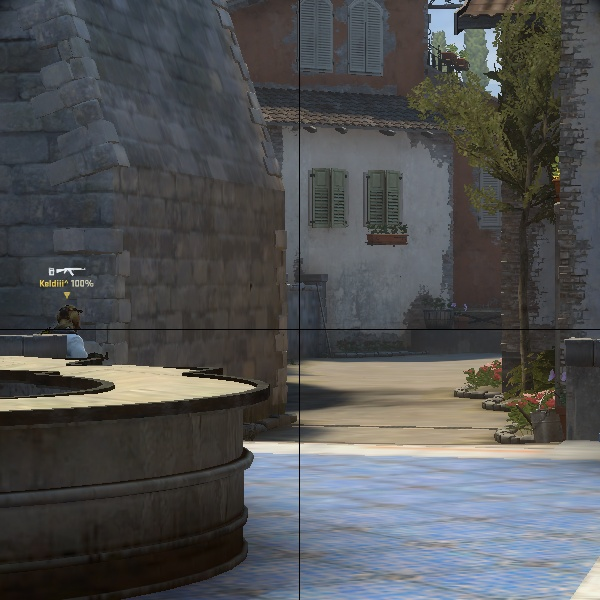t_body: (50, 300, 87, 335)
